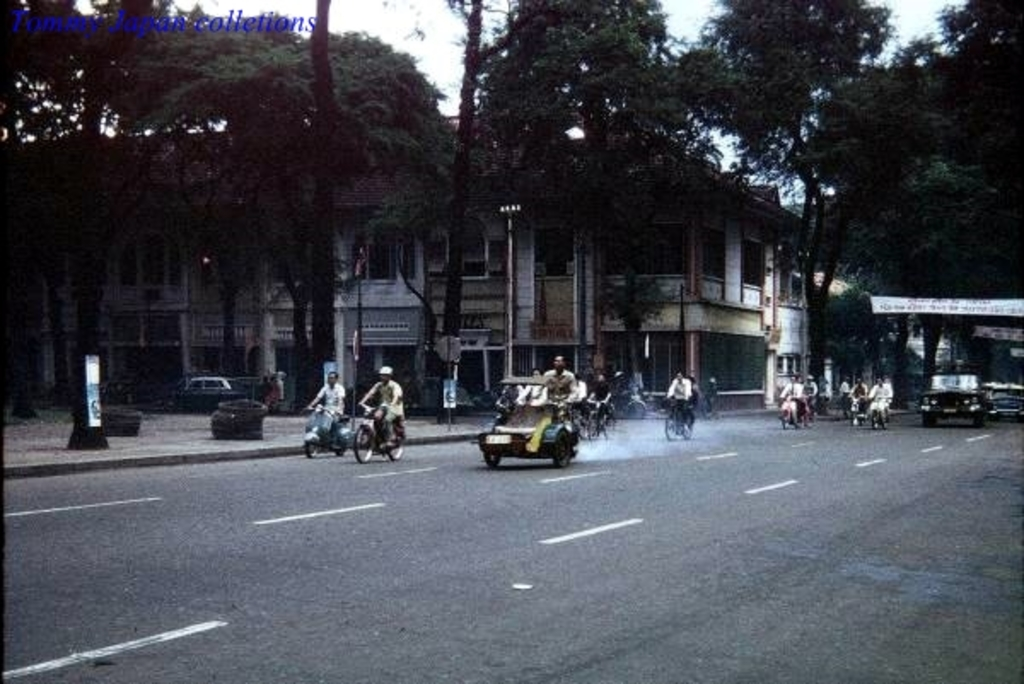Car: (158, 373, 262, 411), (921, 365, 988, 421), (404, 378, 476, 412), (100, 376, 157, 400), (989, 380, 1022, 421), (477, 390, 501, 407)
